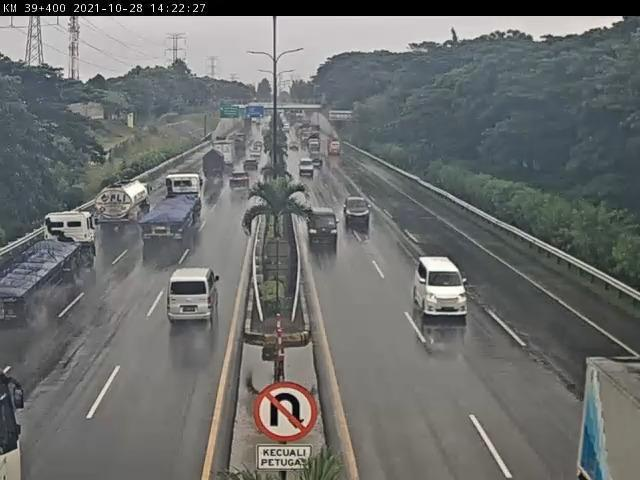car: (416, 259, 471, 320), (167, 269, 221, 326), (308, 205, 340, 246), (345, 197, 373, 226), (228, 173, 251, 191), (299, 157, 315, 175), (242, 160, 261, 175)
truck: (1, 212, 99, 320), (139, 173, 208, 250), (96, 181, 154, 230), (200, 152, 224, 183)
